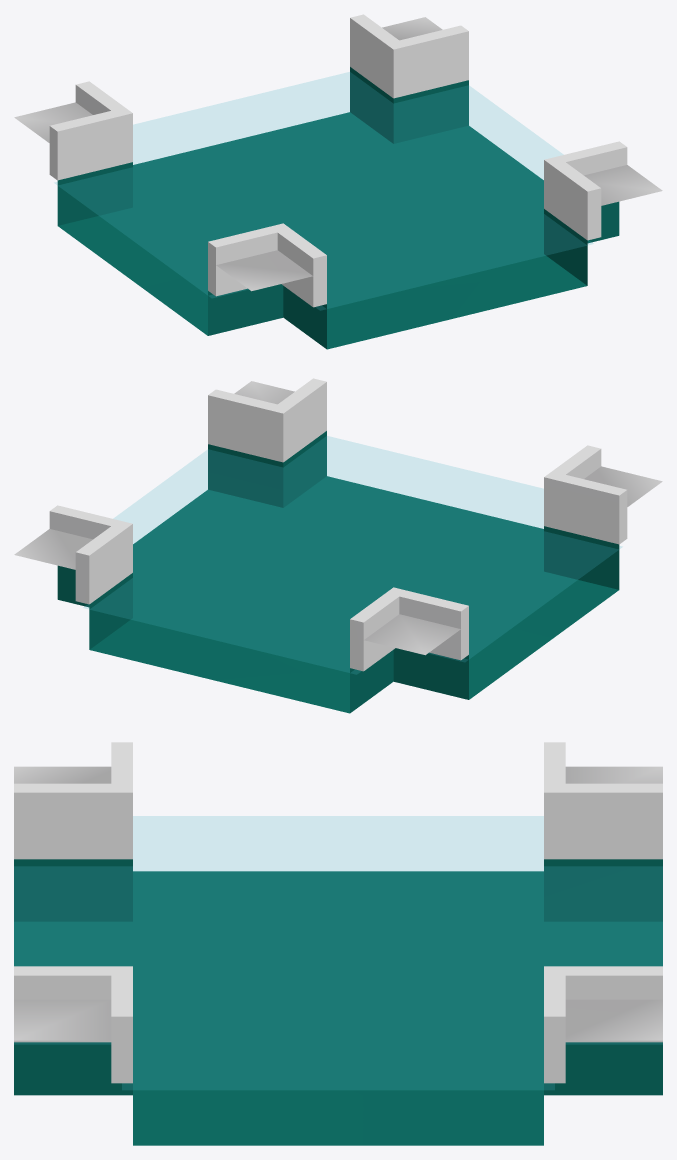
Rendered from Water_04.glb.
3 views of the same model, one above another, from view 1: azimuth 30°, elevation 25°; view 2: azimuth 150°, elevation 25°; view 3: azimuth 270°, elevation 25° (orthographic). The views are drawn at different scales.
Parts seen in each view (by area): view 1: Water_04; view 2: Water_04; view 3: Water_04.
Part boxes in pixels (left/top/right/bottom): Water_04: left=14, top=14, right=662, bottom=349; Water_04: left=14, top=378, right=662, bottom=713; Water_04: left=14, top=742, right=662, bottom=1145.
Size of the model in its own units: 15 by 3.29 by 15.
Materials: 2 (2 with a texture image).
